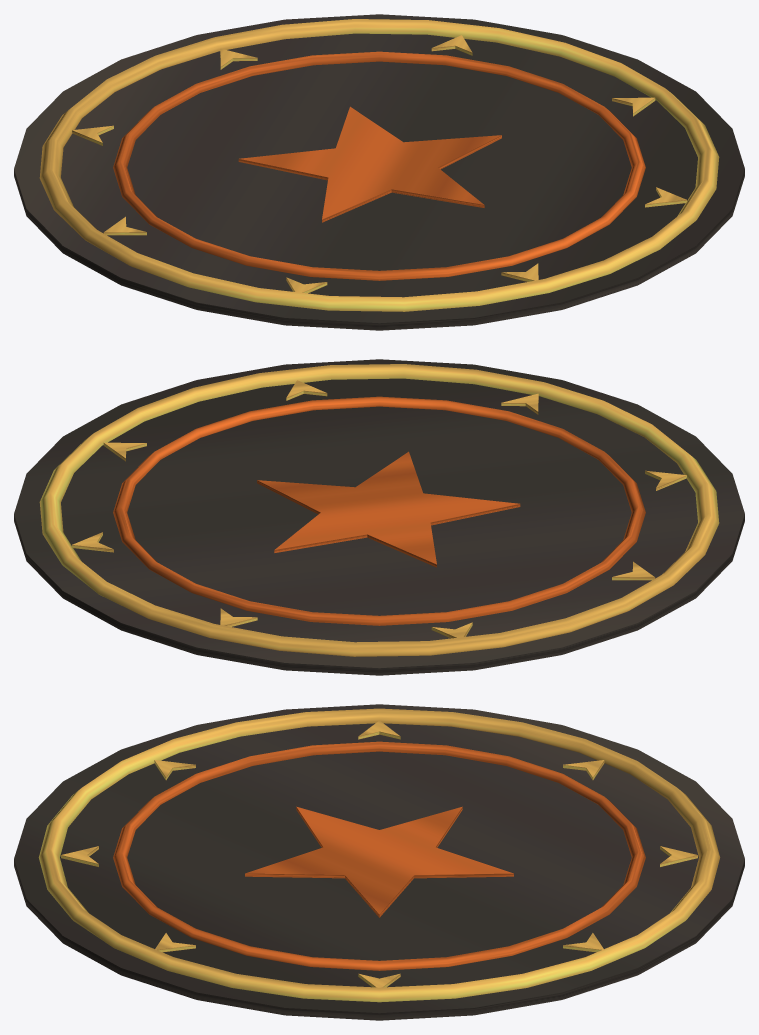
The model's file is startpos.obj.
3 views of the same model, one above another, from view 1: azimuth 30°, elevation 25°; view 2: azimuth 150°, elevation 25°; view 3: azimuth 270°, elevation 25° (orthographic).
Bounding box in the file's own units: 6.2 × 0.18 × 6.2.
1 material, 1 textured.
